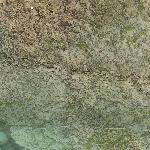dead: (10, 8, 141, 145)
